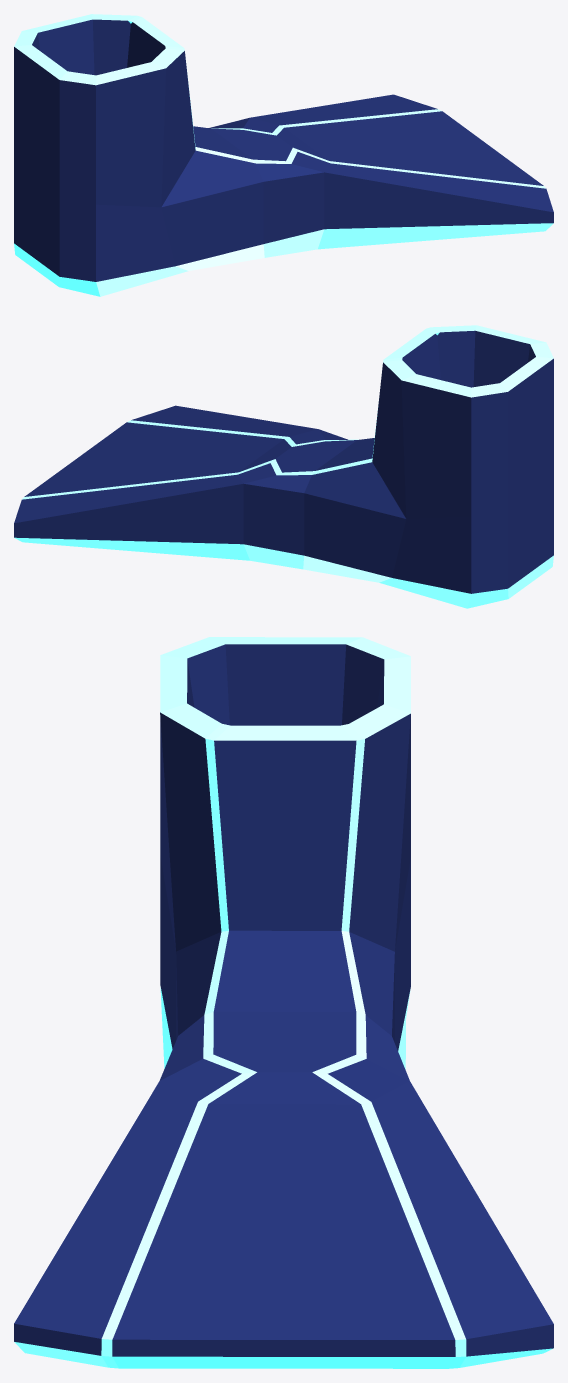
The model's file is boot_flipper.glb.
3 views of the same model, one above another, from view 1: azimuth 30°, elevation 25°; view 2: azimuth 150°, elevation 25°; view 3: azimuth 270°, elevation 25° (orthographic). The views are drawn at different scales.
Visible parts, largest first — view 1: Cube; view 2: Cube; view 3: Cube.
Boxes of the visible parts, <box> form: Cube: <box>14,14,553,296</box>; Cube: <box>14,325,553,608</box>; Cube: <box>14,637,553,1368</box>.
Bounding box in the file's own units: 1.12 × 0.5188 × 0.6835.
Materials: 2 (1 with a texture image).
